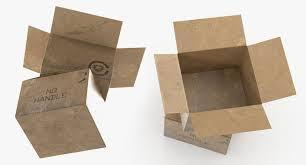box: (153, 14, 297, 137), (23, 6, 146, 101), (15, 68, 107, 158), (164, 113, 235, 156)
